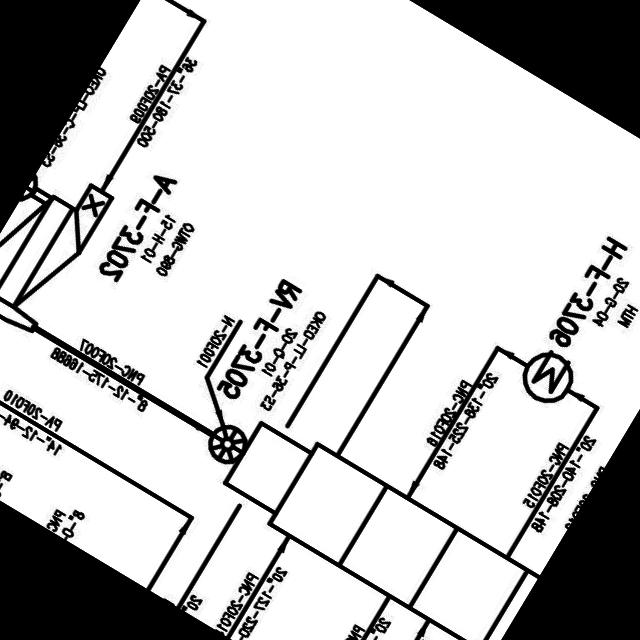A2: (0, 150, 124, 349)
HE: (508, 337, 582, 413)
RV1: (194, 414, 252, 472)
